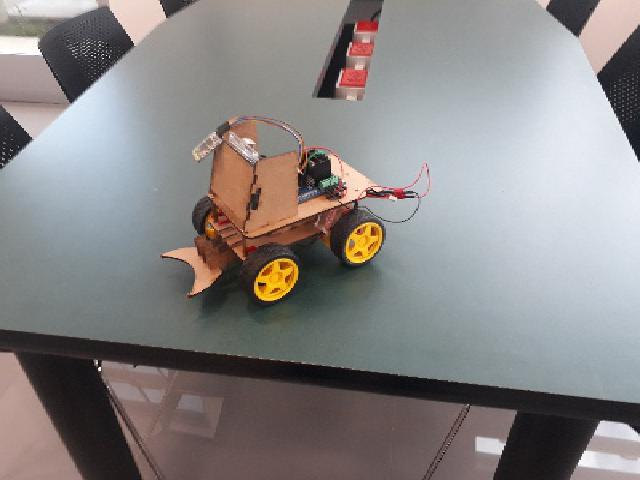Robot: (158, 115, 386, 304)
